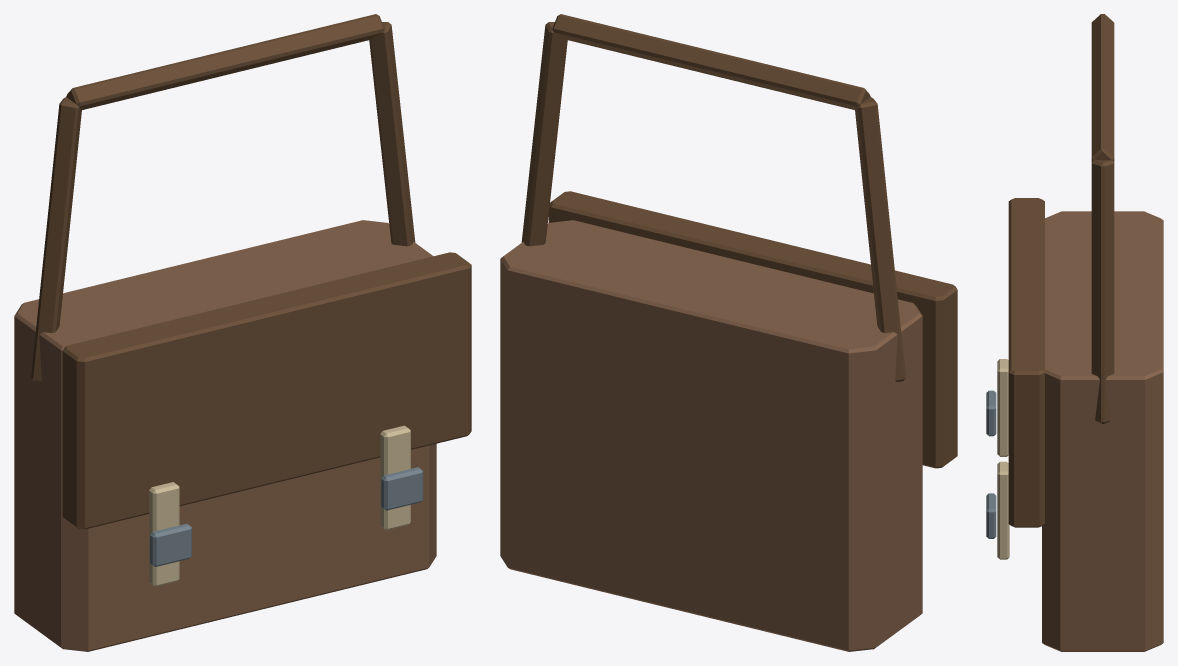
The model's file is b17_messenger_satchel.glb.
3 views of the same model, side by side, from view 1: azimuth 30°, elevation 25°; view 2: azimuth 150°, elevation 25°; view 3: azimuth 270°, elevation 25° (orthographic). The views are drawn at different scales.
Parts seen in each view (by area): view 1: b17_messenger_satchel; view 2: b17_messenger_satchel; view 3: b17_messenger_satchel.
Boxes of the visible parts, left/top/right/bottom form: b17_messenger_satchel: left=14, top=14, right=471, bottom=651; b17_messenger_satchel: left=500, top=14, right=957, bottom=651; b17_messenger_satchel: left=986, top=14, right=1163, bottom=651.
Bounding box in the file's own units: 0.41 × 0.5311 × 0.175.
